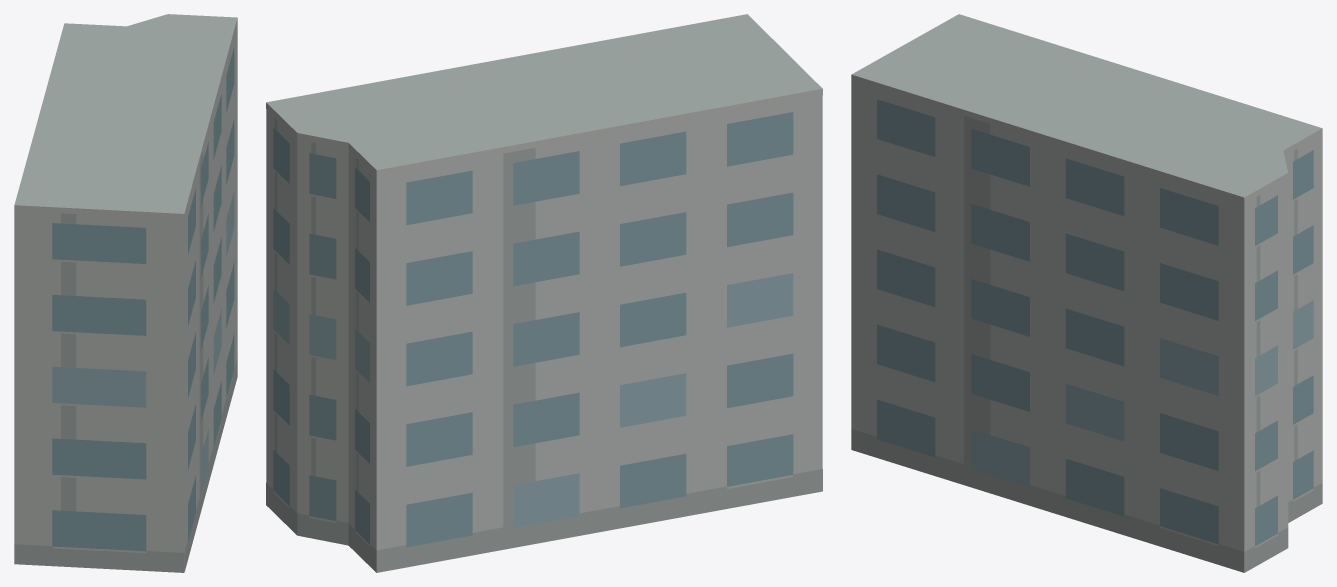
Rendered from survey-upis-32756023.glb.
The picture shows the model from 3 angles, left to right: view 1: azimuth 30°, elevation 25°; view 2: azimuth 150°, elevation 25°; view 3: azimuth 270°, elevation 25°; orthographic projection. The views are drawn at different scales.
Parts seen in each view (by area): view 1: survey-upis-32756023.tmp; view 2: survey-upis-32756023.tmp; view 3: survey-upis-32756023.tmp.
Boxes of the visible parts, x1,y1,x2,y2 form: survey-upis-32756023.tmp: [14, 14, 237, 572]; survey-upis-32756023.tmp: [266, 14, 822, 572]; survey-upis-32756023.tmp: [851, 14, 1322, 572].
Size of the model in its own units: 15.95 by 15.2 by 17.3.
